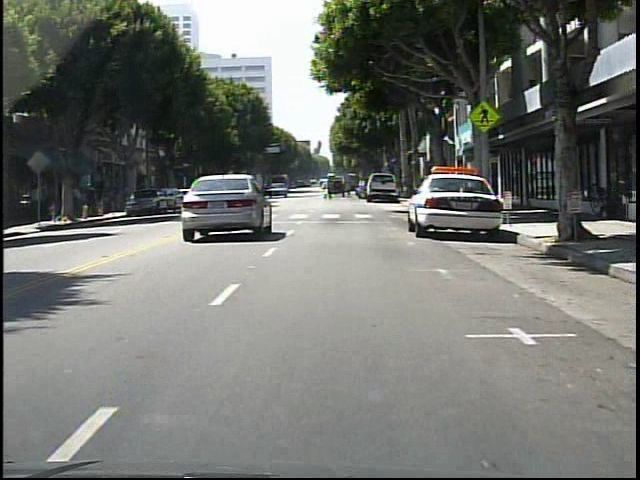person: (31, 181, 42, 221), (86, 182, 98, 218), (75, 186, 86, 218), (328, 177, 329, 200)
